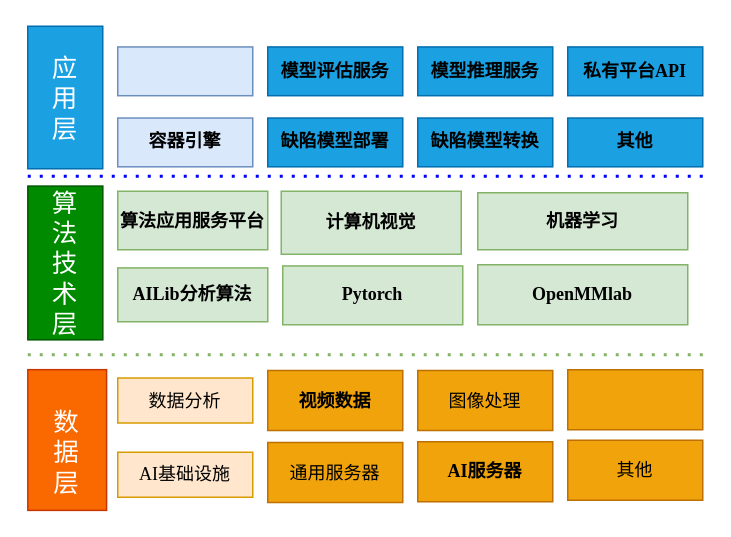
This 731x537 diagram has some shape labels left out. The shapes that lost their labels are listed below. From the top down, each one's box as (x1, y1, x2, y2) in pixels, then its label:
(116, 45, 253, 96): 模型验证服务
(566, 368, 703, 430): 数据结构化
